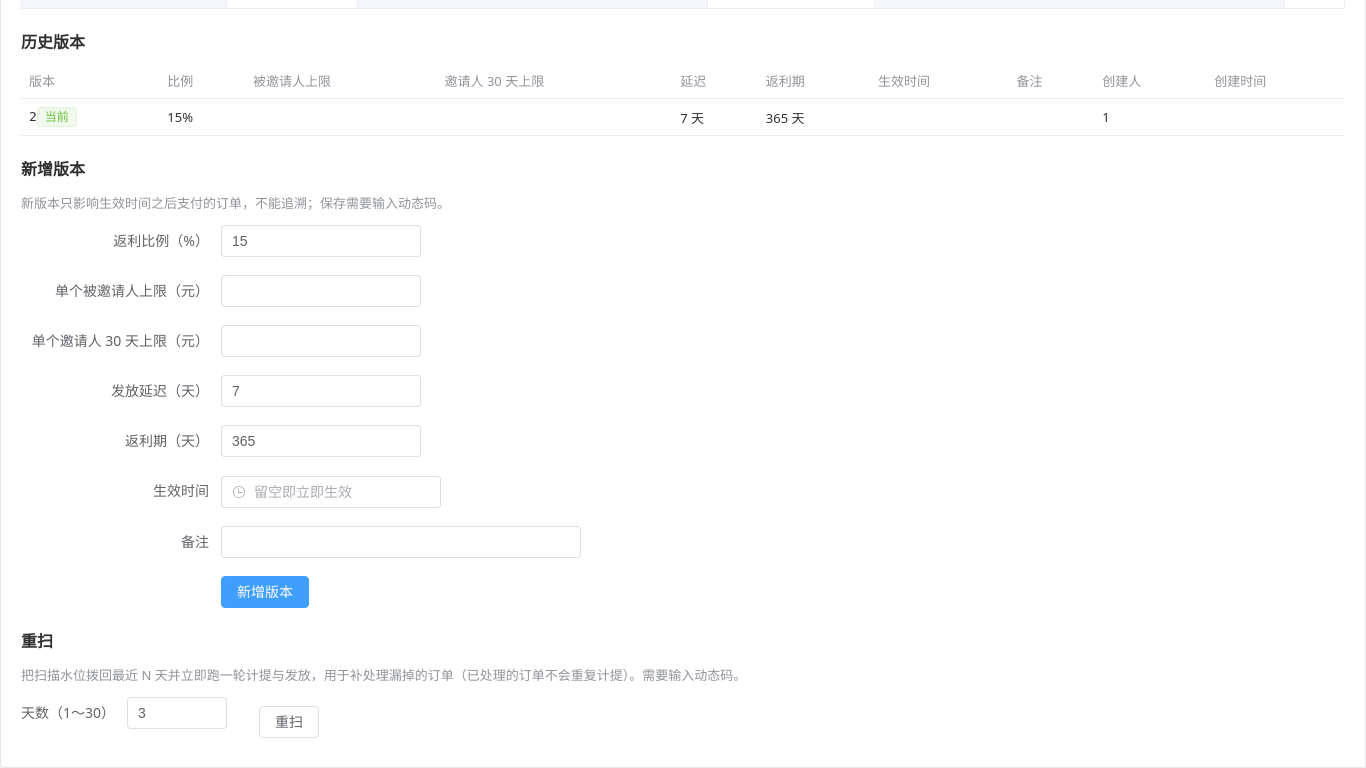
Test: 配置与重扫（super） › 重扫天数越界不发请求
This screenshot has width=1366, height=768.
(page scrolled)
Replace the text in the field labelled "天数（1～30）" with "31" at [177, 713], box [138, 698, 216, 728]
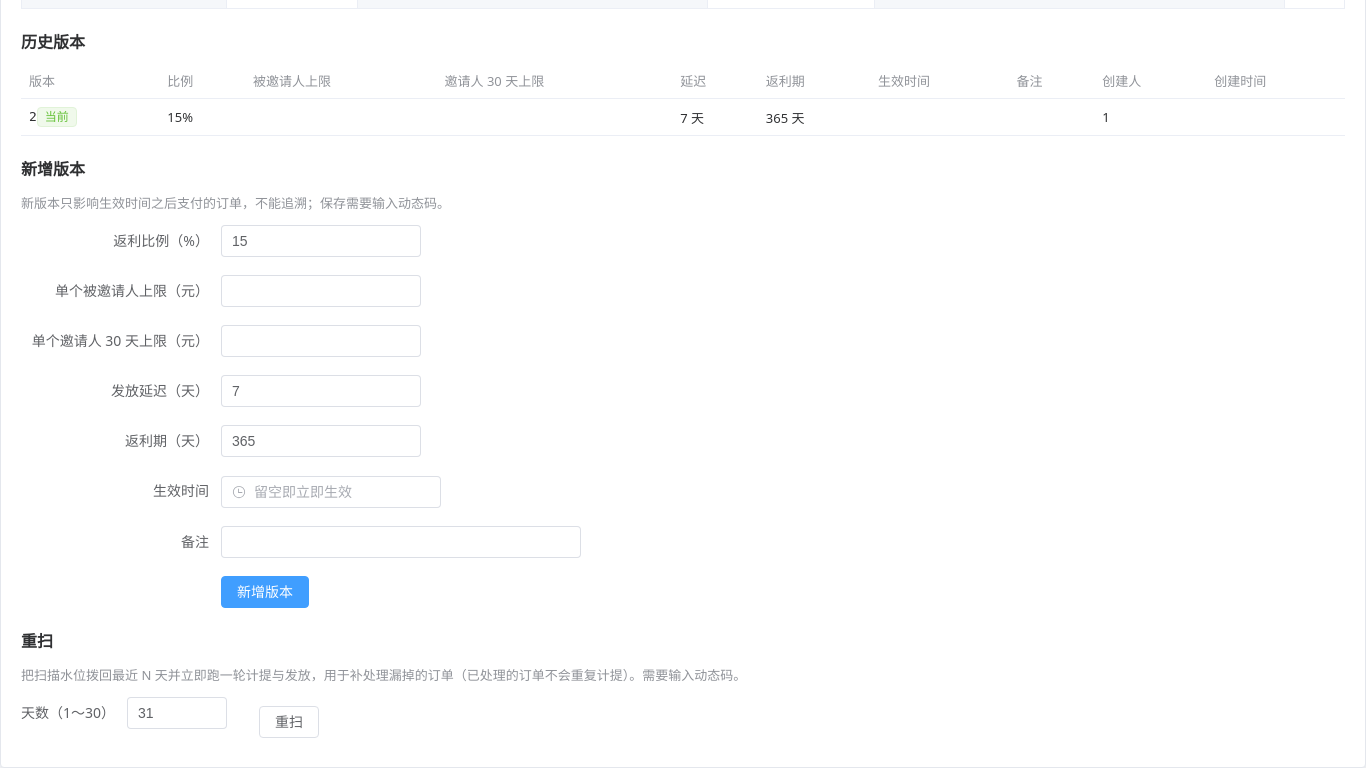
Click the button "重扫".
click(289, 722)  # box [259, 706, 319, 738]
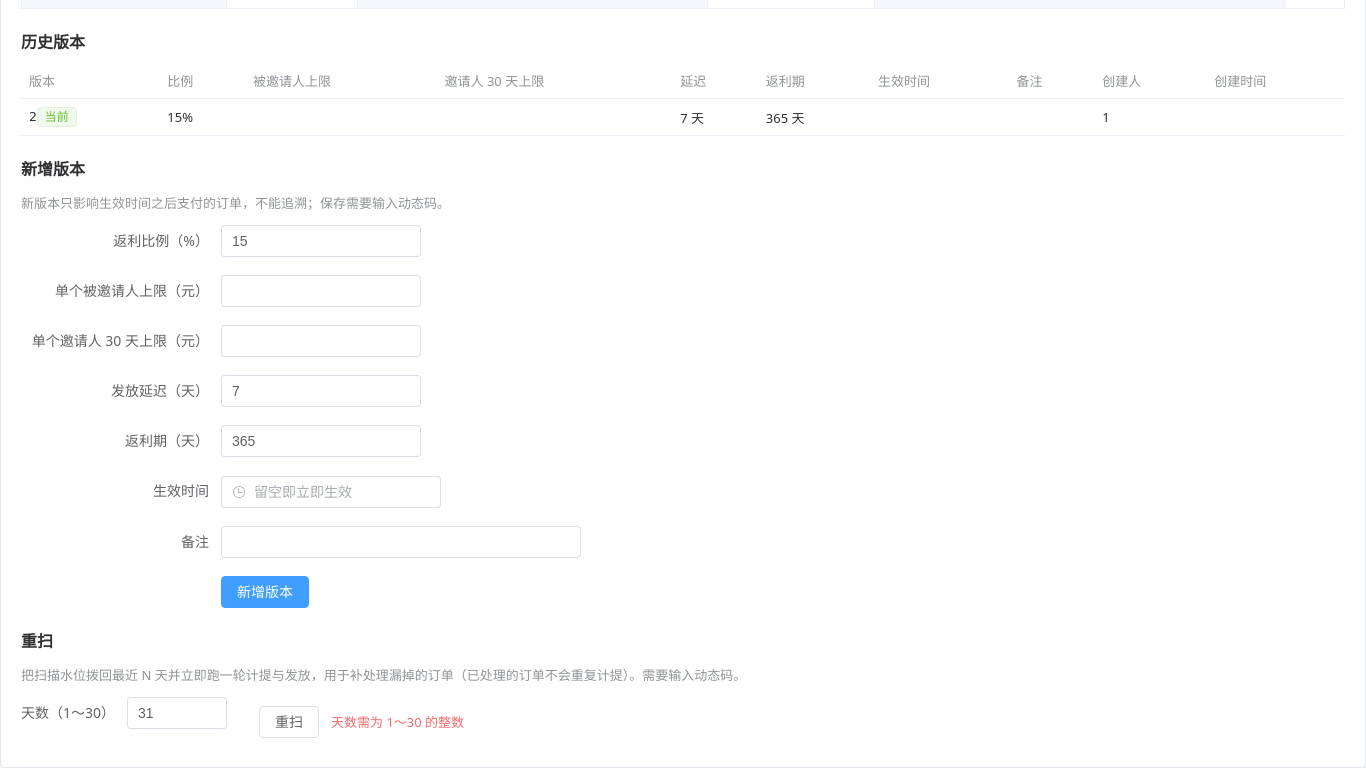
Expected: the text "天数需为 1～30 的整数" is shown, [331, 712, 464, 730]
